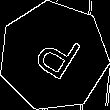P_SW: (24, 25, 83, 88)
